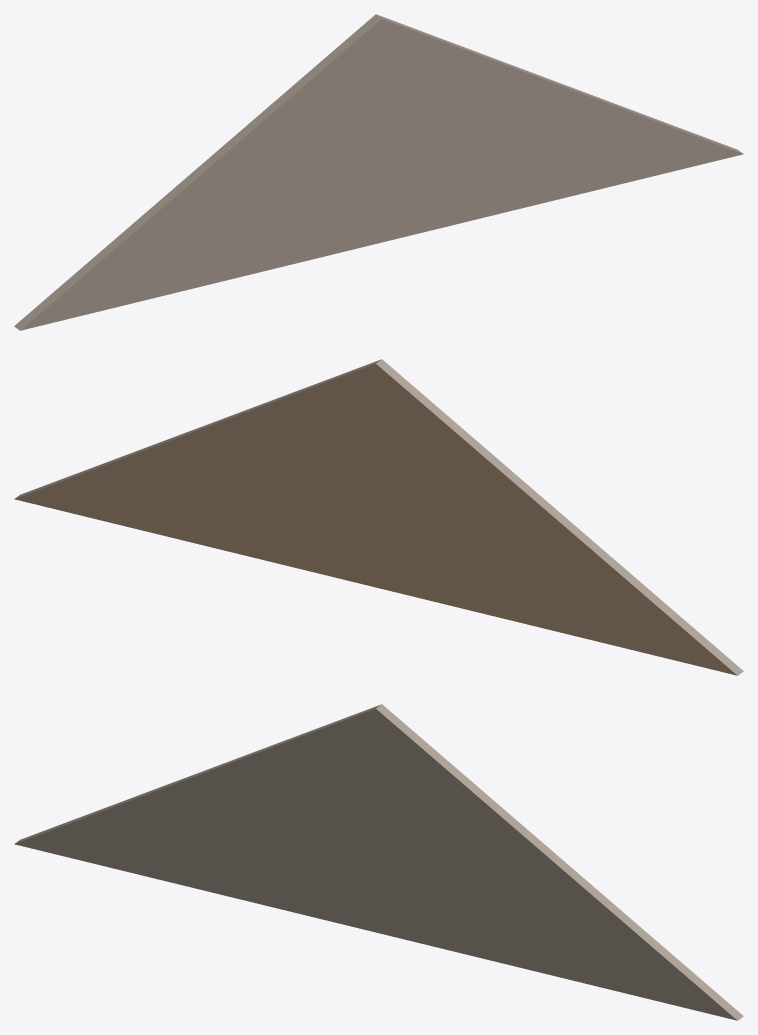
The model's file is Wall2_C4_20.fbx.
3 views of the same model, one above another, from view 1: azimuth 30°, elevation 25°; view 2: azimuth 150°, elevation 25°; view 3: azimuth 330°, elevation 25° (orthographic).
Visible parts, largest first — view 1: Wall2_C4_20; view 2: Wall2_C4_20; view 3: Wall2_C4_20.
Part boxes in pixels (bbox=[...]): Wall2_C4_20: bbox=[14, 14, 743, 330]; Wall2_C4_20: bbox=[14, 359, 743, 675]; Wall2_C4_20: bbox=[14, 704, 743, 1020].
Bounding box in the file's own units: 1015 × 300 × 15.
